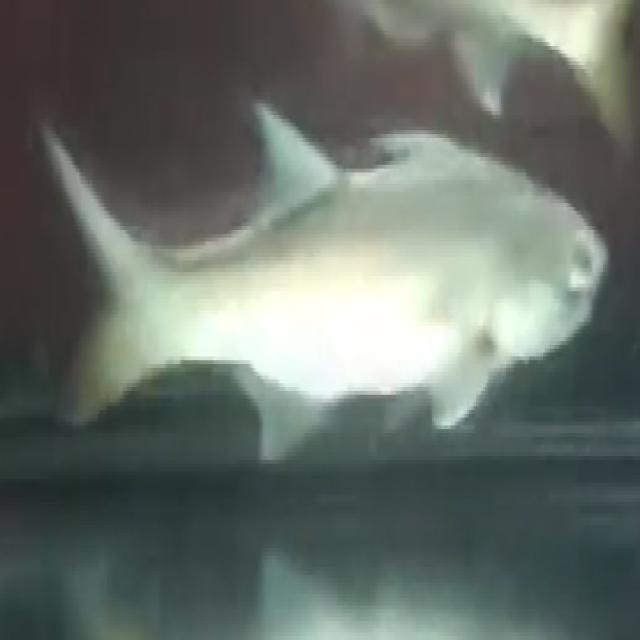Fourfinger-Threadfin: (28, 74, 624, 504)
